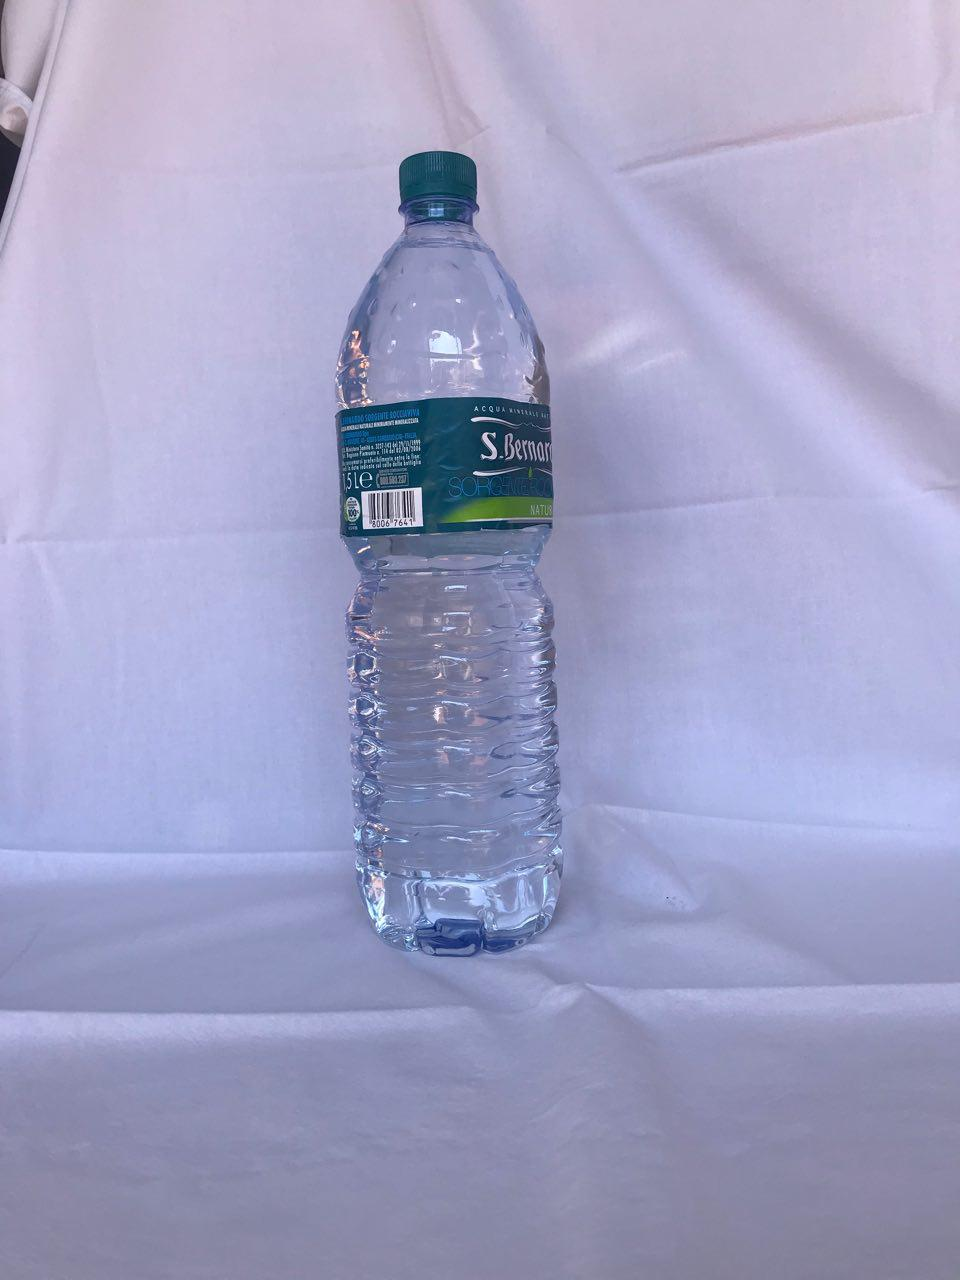san_bernardo: (333, 148, 567, 957)
